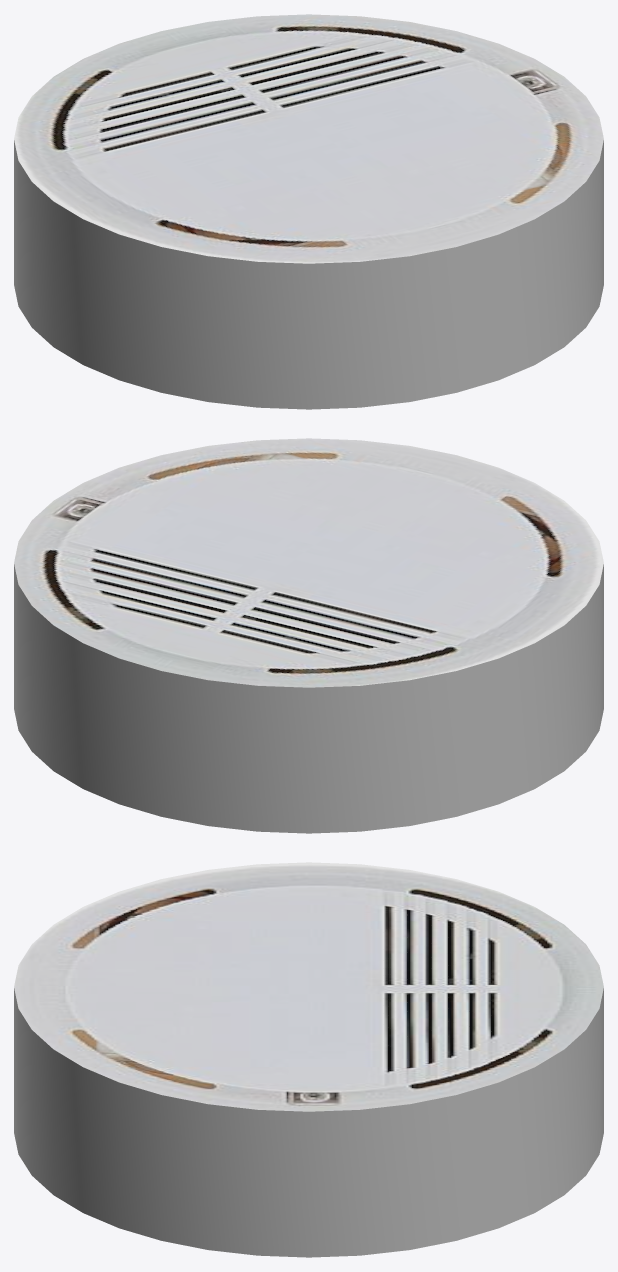
File: yangan_c4d2.fbx
3 renders of one model, top to bottom at view 1: azimuth 30°, elevation 25°; view 2: azimuth 150°, elevation 25°; view 3: azimuth 270°, elevation 25°, orthographic.
Visible parts, largest first — view 1: 圆柱; view 2: 圆柱; view 3: 圆柱.
Part boxes in pixels (x1,y1,x2,y2): 圆柱: [14, 14, 603, 409]; 圆柱: [14, 438, 603, 833]; 圆柱: [14, 862, 603, 1257].
Size of the model in its own units: 61.34 by 16.73 by 61.34.
2 materials, 1 textured.
